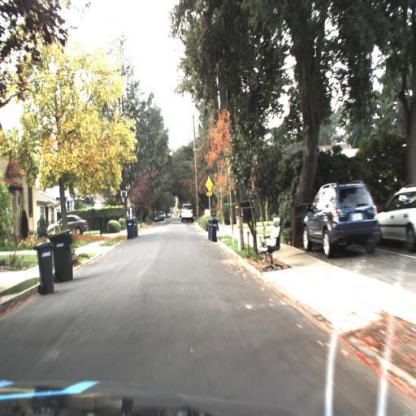car: (298, 172, 384, 266), (371, 188, 416, 253), (46, 210, 88, 237), (180, 200, 197, 225), (180, 204, 196, 225), (153, 212, 166, 226)
